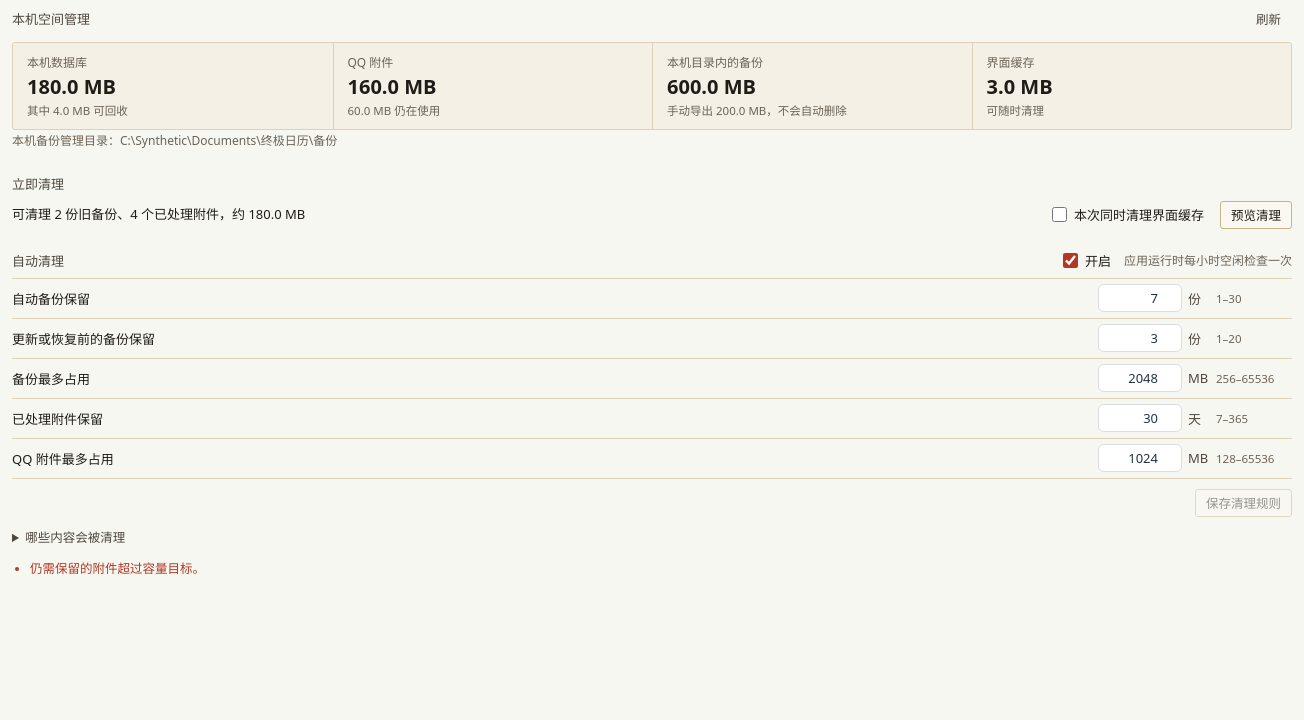
Scenario: space management › refreshes the cleanup preview and requires an explicit confirmation, with cache opt-in
Expected: the text "180.0 MB" is shown, [27,73,116,100]
Expected: the list item "仍需保留的附件超过容量目标。" is shown, [30,560,205,577]
Click the checkbox labelled "本次同时清理界面缓存": (1060, 215) [1052,207,1067,222]
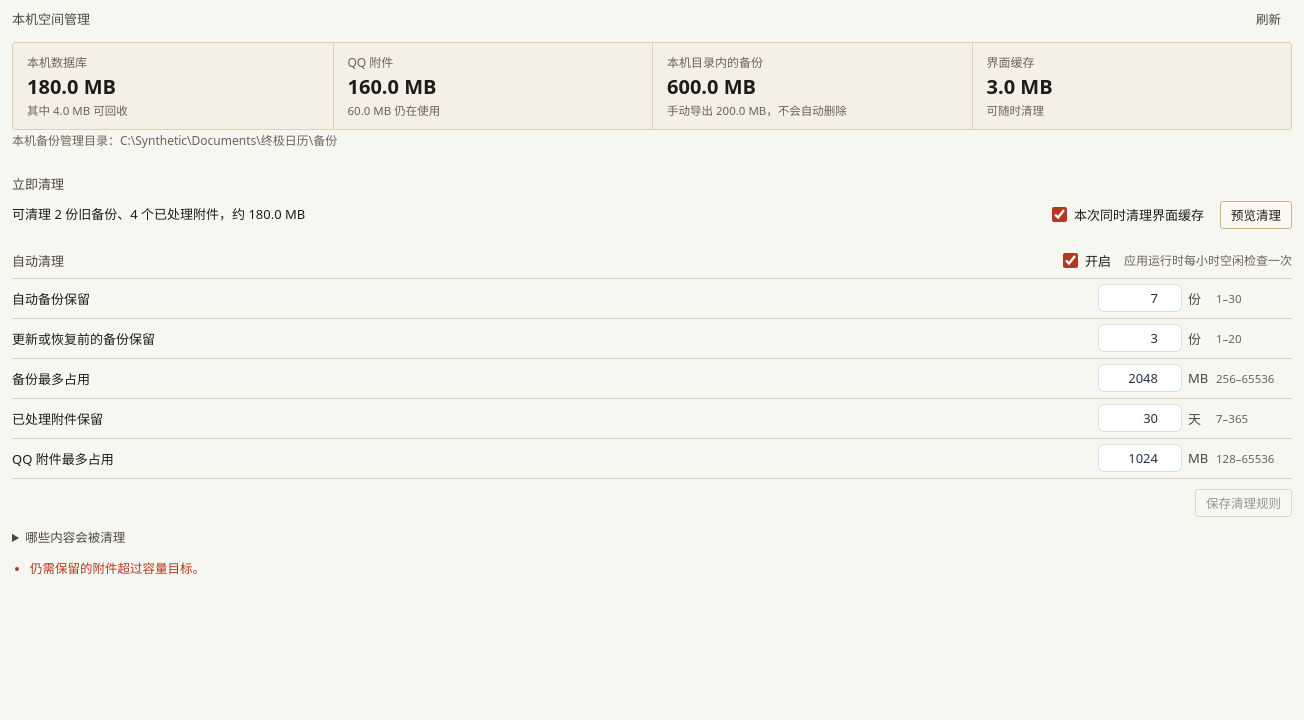
Click the button "预览清理": (1256, 215) [1220,201,1292,229]
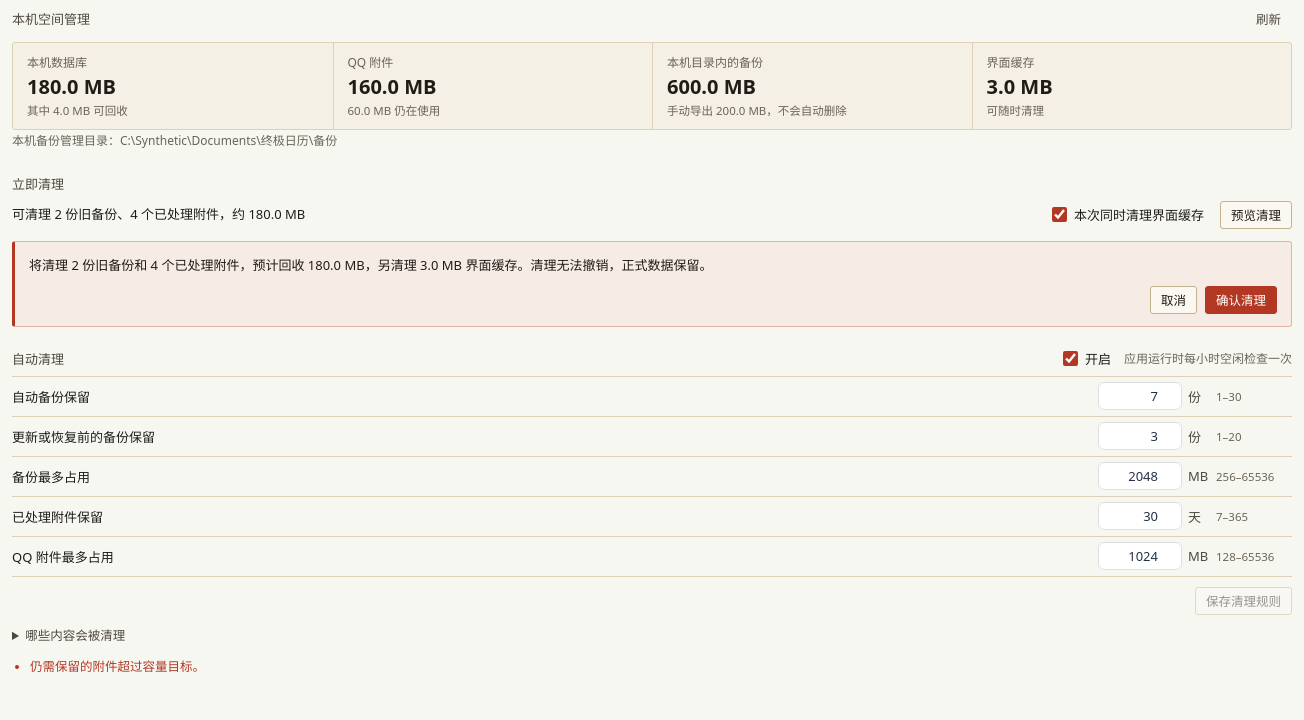
Now the element named "确认空间清理" shows "2 份旧备份和 4 个已处理附件", box [12,241,1292,327]
Now the element named "确认空间清理" shows "180.0 MB", box [308,256,365,274]
Now the element named "确认空间清理" shows "另清理 3.0 MB 界面缓存", box [365,256,518,274]
Click the button "确认清理": (1241, 300) [1205,286,1277,314]
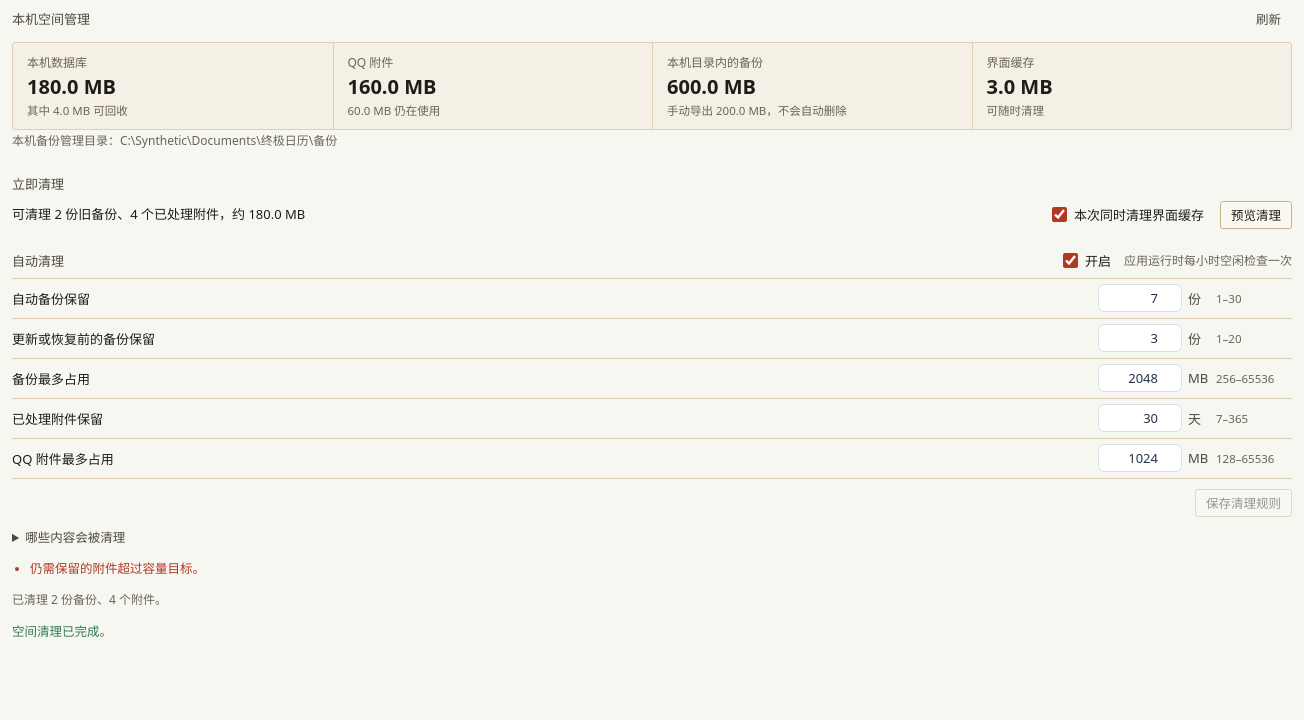
Now the text "空间清理已完成。" is shown, box [12,623,112,640]
Now the element "确认空间清理" is gone
Now the text "已清理 2 份备份、4 个附件。" is shown, box [12,591,167,608]
